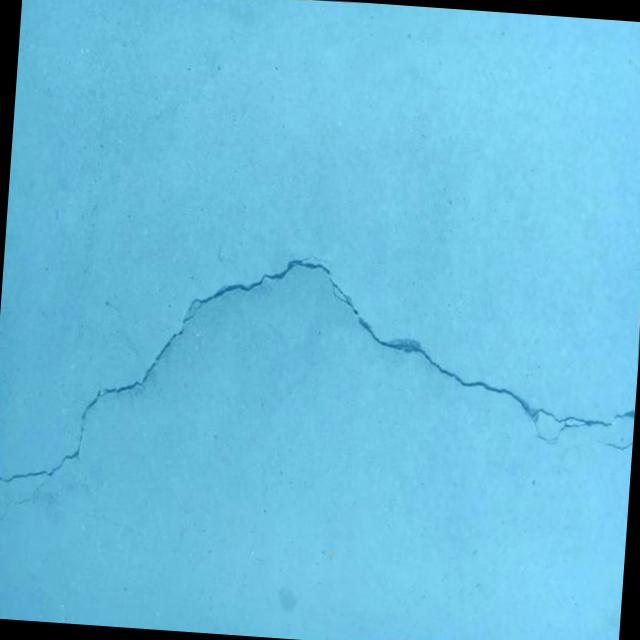crack: (0, 226, 640, 527), (0, 478, 45, 528), (596, 437, 632, 450)
